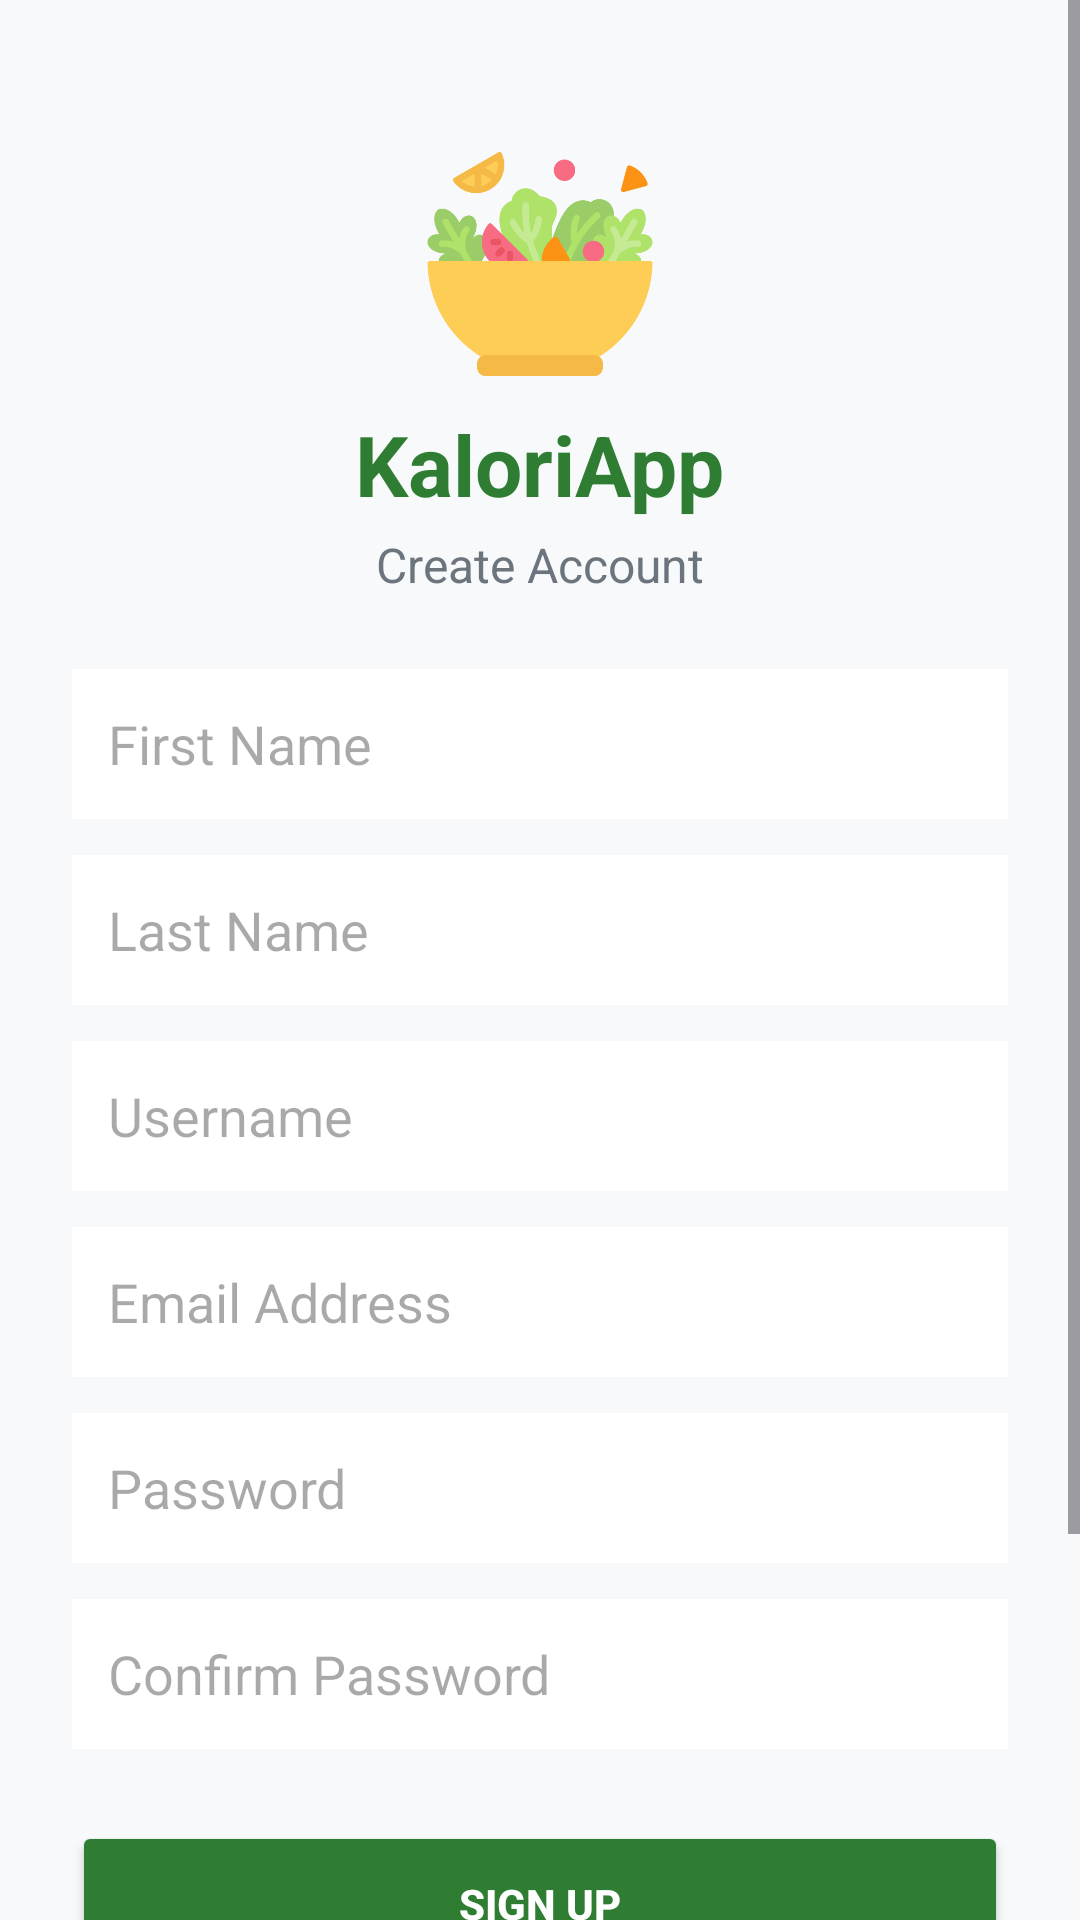

Icons on this 1080 × 1920 Android screen, each with the point to tap as (x,y):
salad: (540,264)
